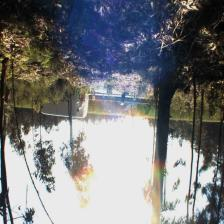trunktrack_idkeyframe: (154, 85, 180, 193), (0, 58, 9, 186)
